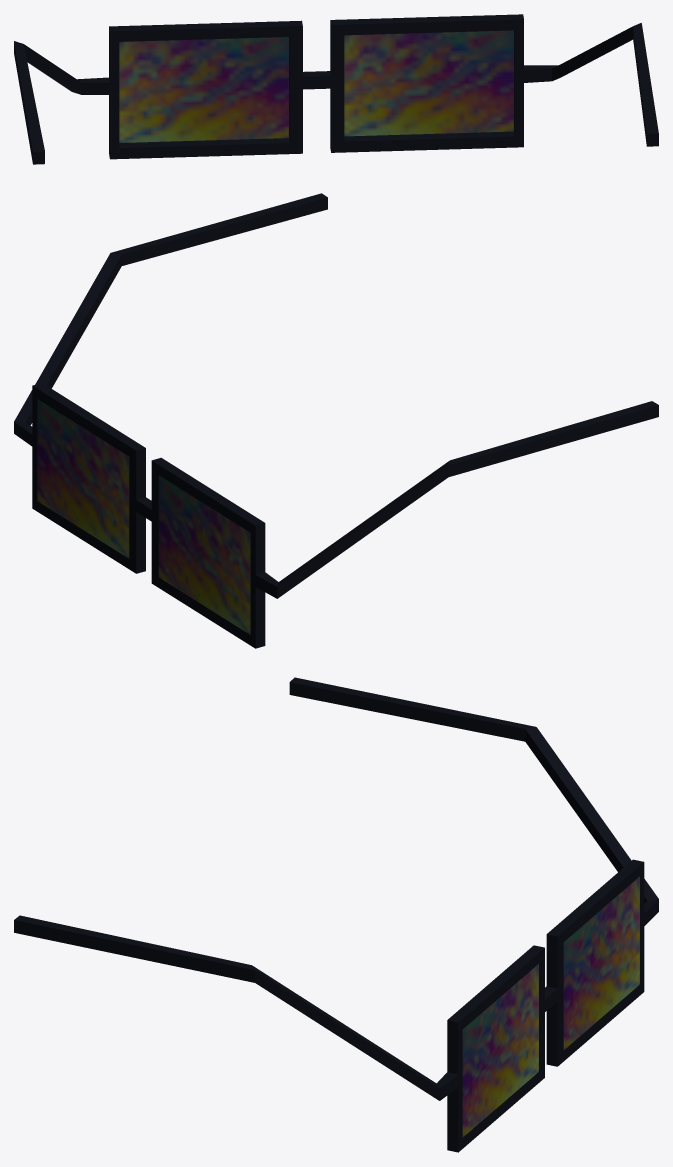
Rendered from BOXY SUNGLASSES.fbx.
3 views of the same model, one above another, from view 1: azimuth 30°, elevation 25°; view 2: azimuth 150°, elevation 25°; view 3: azimuth 270°, elevation 25° (orthographic). The views are drawn at different scales.
Parts seen in each view (by area): view 1: BOXY_SUNGLASSES; view 2: BOXY_SUNGLASSES; view 3: BOXY_SUNGLASSES.
Part boxes in pixels (x1,y1,x2,y2): BOXY_SUNGLASSES: (14,14,658,164); BOXY_SUNGLASSES: (14,193,658,648); BOXY_SUNGLASSES: (14,677,658,1152).
Size of the model in its own units: 27.46 by 8.24 by 25.15.
